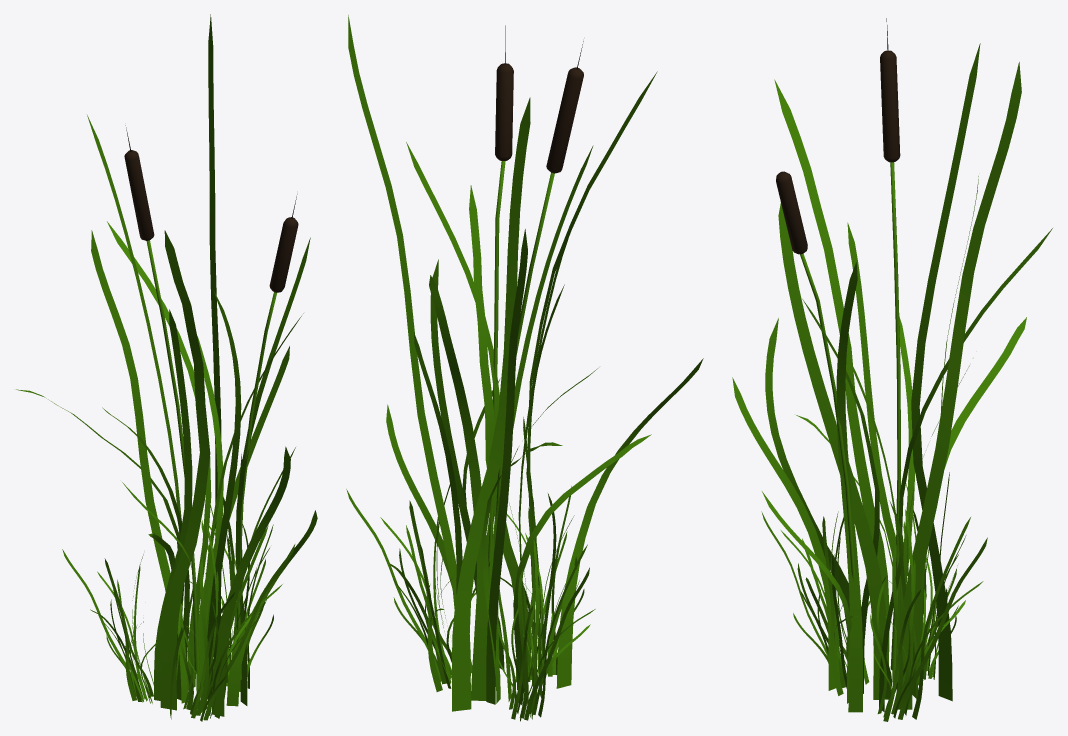
The model's file is cattails.fbx.
3 views of the same model, side by side, from view 1: azimuth 30°, elevation 25°; view 2: azimuth 150°, elevation 25°; view 3: azimuth 270°, elevation 25° (orthographic). The views are drawn at different scales.
Visible parts, largest first — view 1: Hi Res Cattail.001; view 2: Hi Res Cattail.001; view 3: Hi Res Cattail.001.
Part boxes in pixels (bbox=[...]): Hi Res Cattail.001: bbox=[16, 14, 317, 721]; Hi Res Cattail.001: bbox=[346, 15, 703, 721]; Hi Res Cattail.001: bbox=[732, 18, 1052, 721].
Size of the model in its own units: 61.24 by 161 by 69.53.
